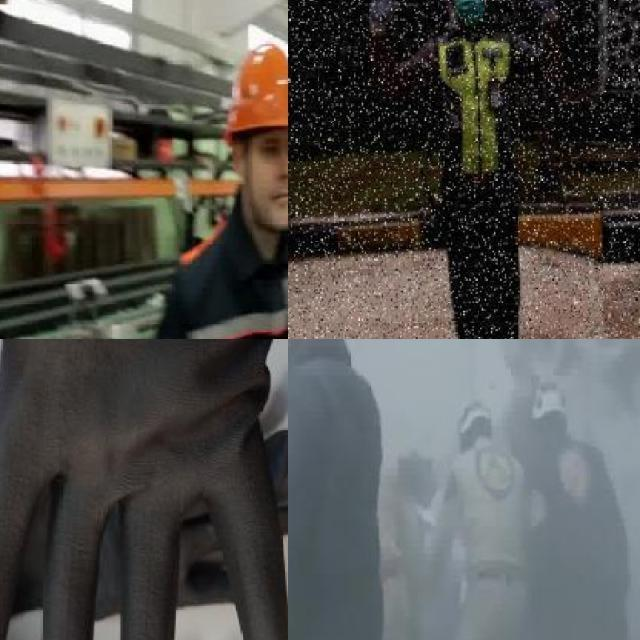apron: (0, 339, 163, 640), (366, 0, 399, 38), (523, 0, 559, 26)
